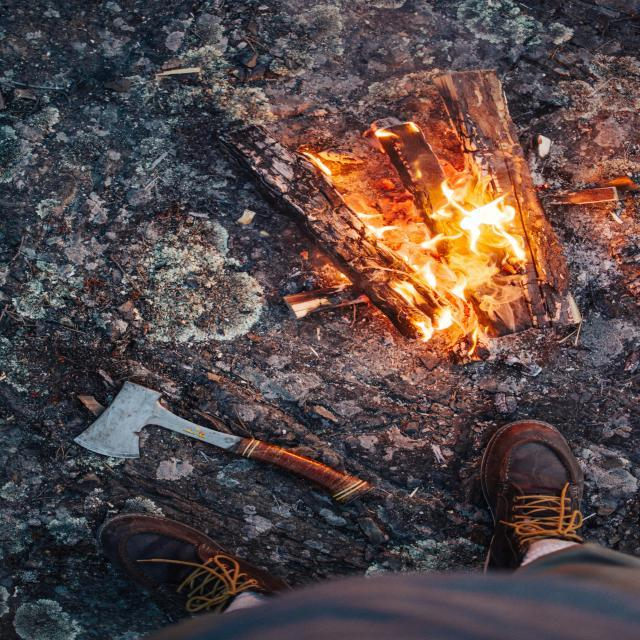Axe: (75, 381, 372, 502)
